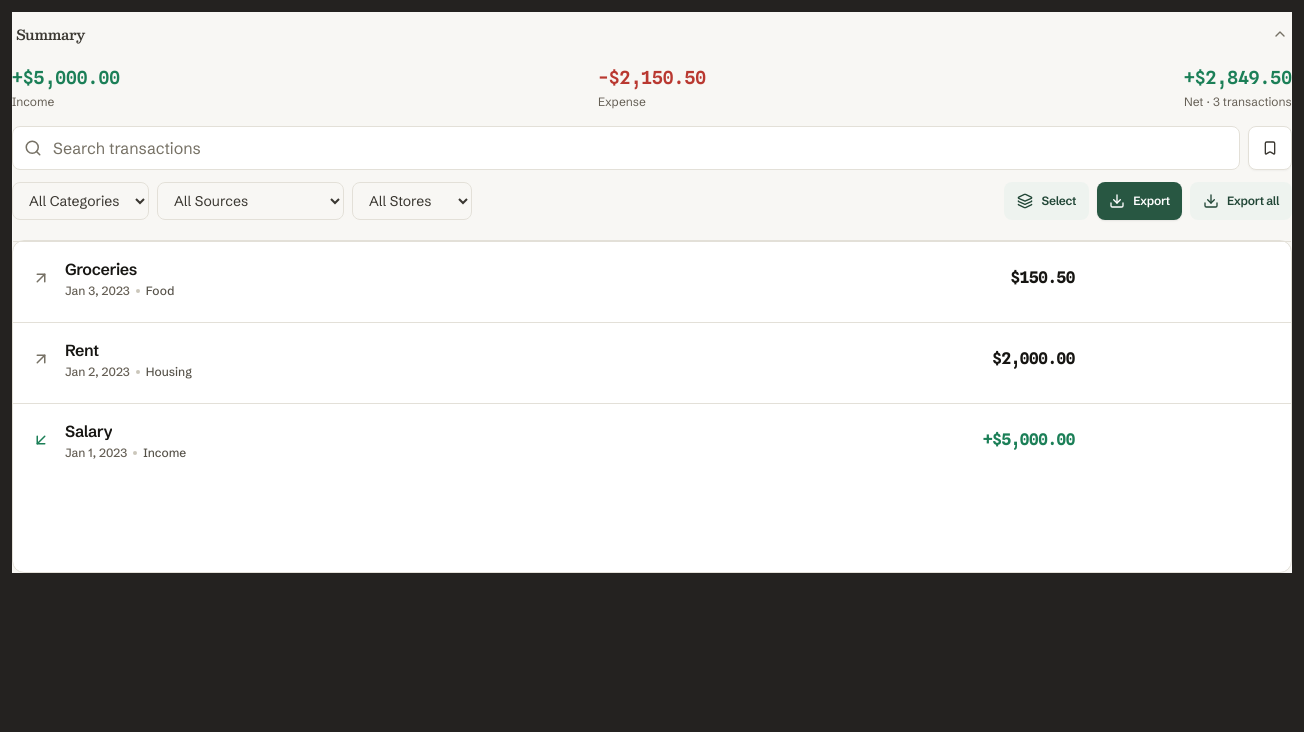
Test: TransactionMasterList Summary Widget › updates summary when filtered by category
This screenshot has width=1304, height=732.
# Filter to only 'Income'
Select "Income" in the 1st dropdown at (80, 201), box [12,182,149,220]
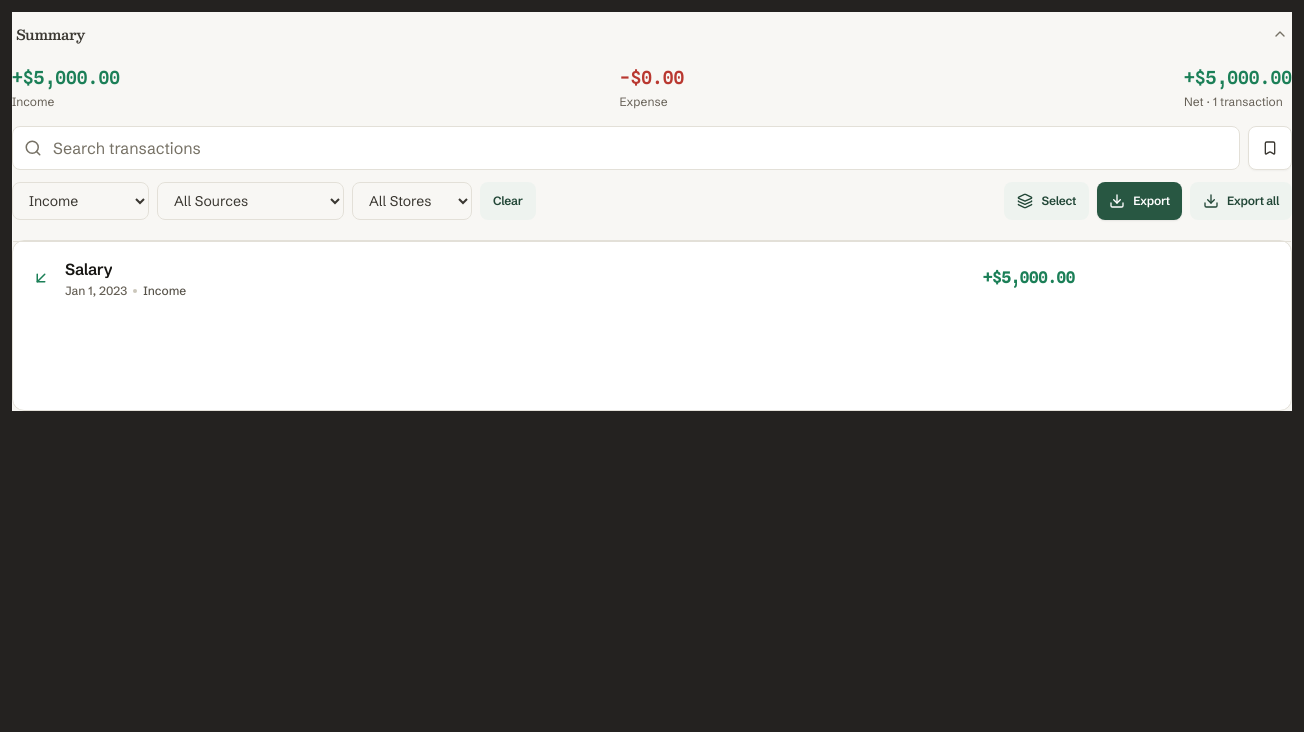
Result: the text "-$0.00" is shown at [620,64,684,92]
Result: the text "Net · 1 transaction" is shown at [1184,94,1292,110]
